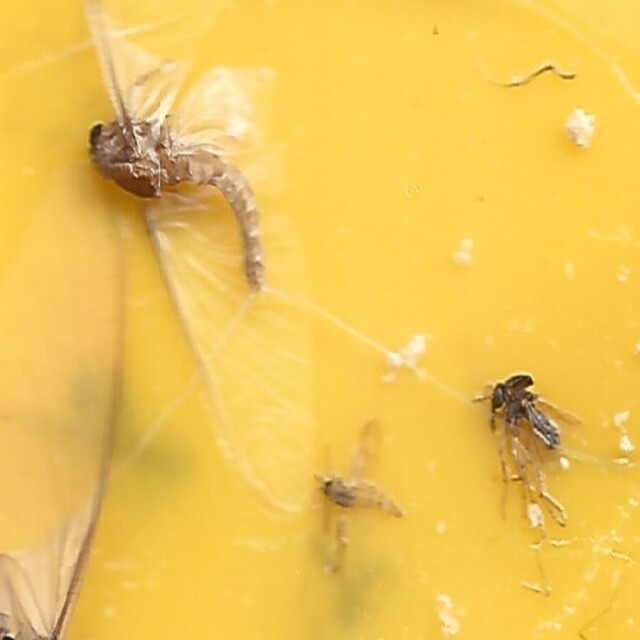Brachycera: (490, 362, 562, 454)
Ephemeroptera: (78, 115, 269, 301)
Nematocera: (321, 470, 408, 525)
